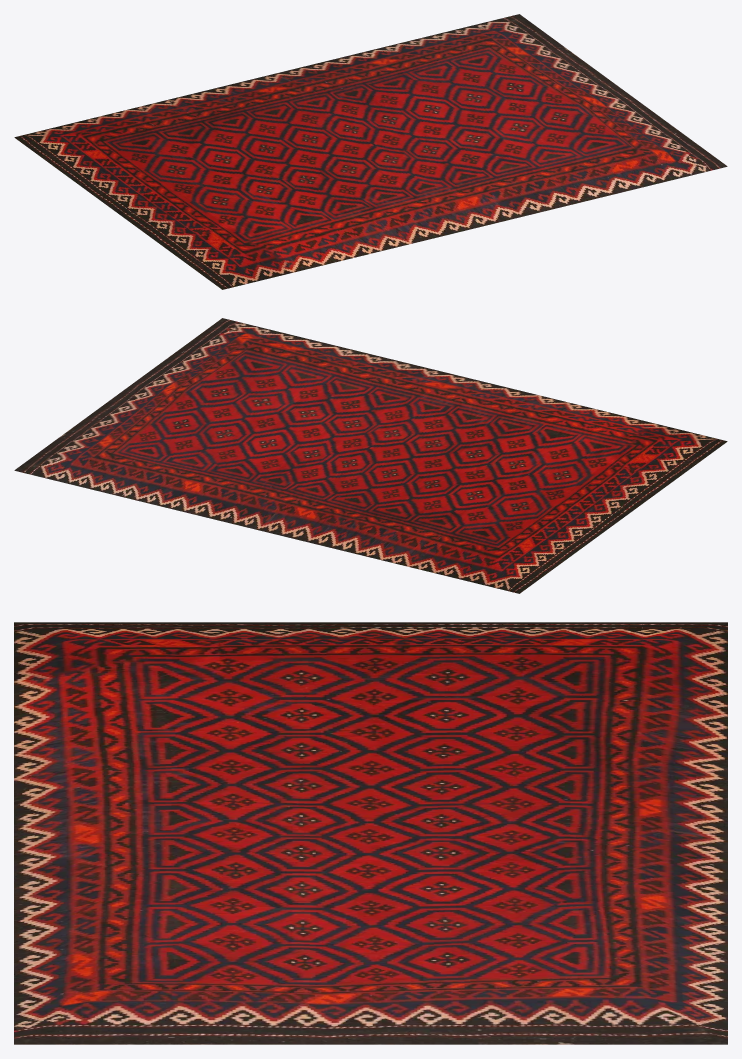
The model's file is KM_VOB_CARPET_04.glb.
3 renders of one model, top to bottom at view 1: azimuth 30°, elevation 25°; view 2: azimuth 150°, elevation 25°; view 3: azimuth 270°, elevation 25°, orthographic. The views are drawn at different scales.
Parts seen in each view (by area): view 1: Mesh; view 2: Mesh; view 3: Mesh.
Part boxes in pixels (<box>): Mesh: <box>14,14,727,289</box>; Mesh: <box>14,318,727,593</box>; Mesh: <box>14,622,727,1044</box>.
Bounding box in the file's own units: 3.5 × 0.05 × 2.5.
1 material, 1 textured.
